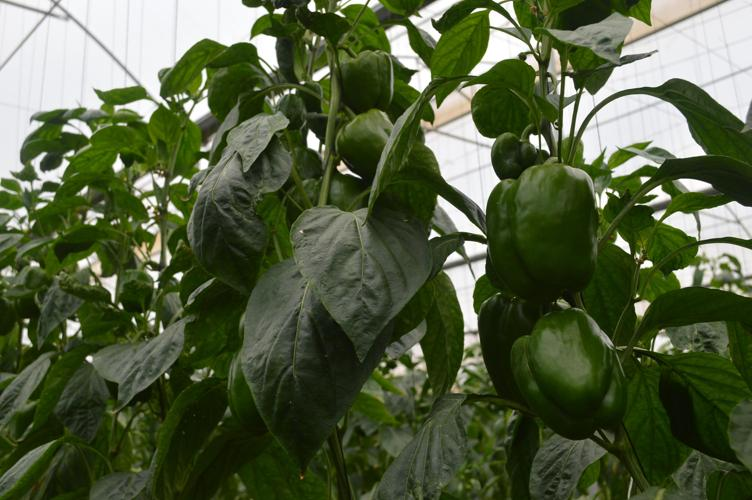BellPepper: (485, 166, 602, 297), (512, 311, 629, 442), (475, 294, 544, 410), (338, 109, 391, 173), (338, 54, 397, 110), (226, 357, 266, 434), (288, 173, 361, 213), (484, 135, 536, 176)
